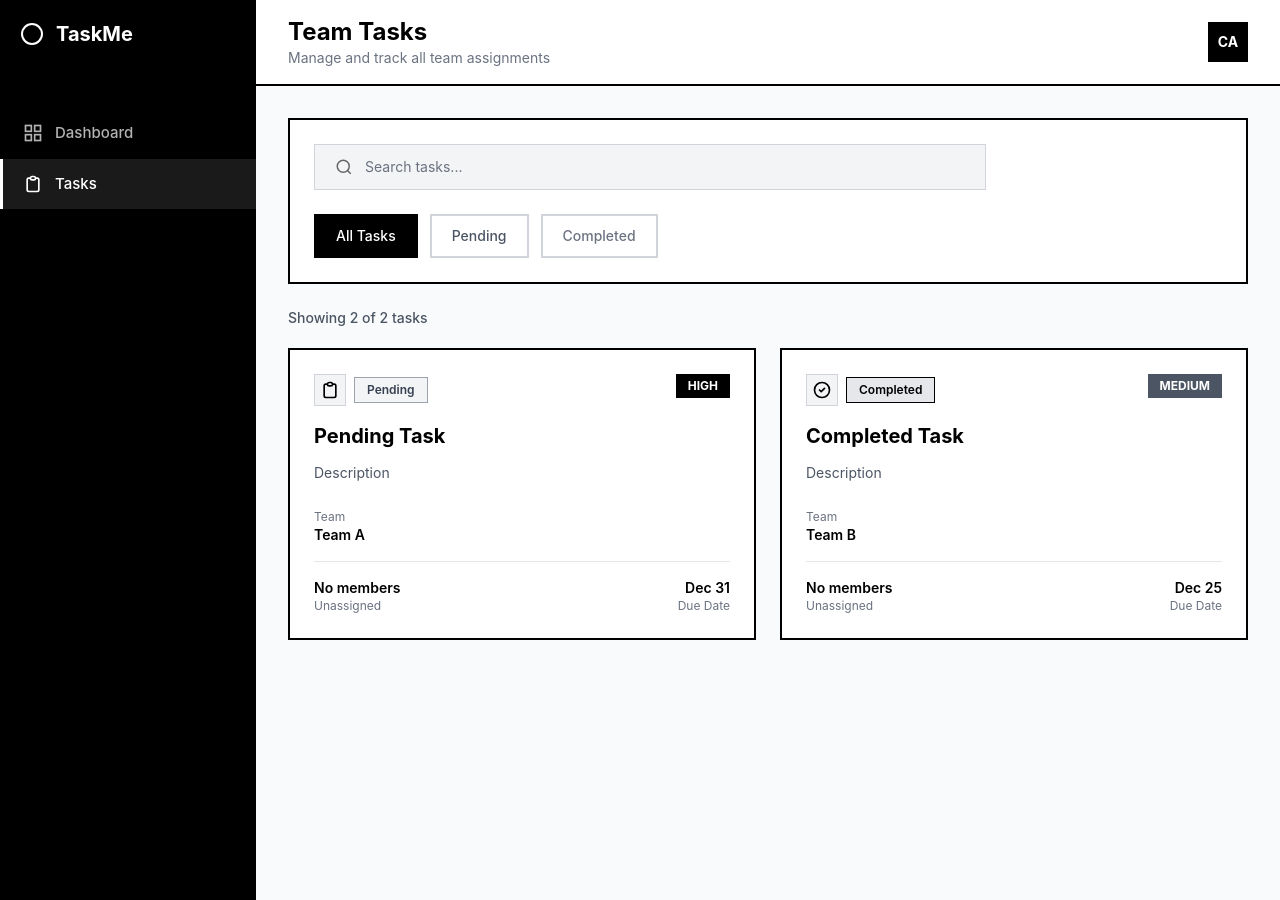
Test: Tasks Component › filters tasks when clicking filter buttons
Check: the heading "Pending Task" is shown, box 314,424 -> 445,448
# Click on Completed filter
Click the button "Completed". click: (599, 236)
box: 540,214 -> 658,258
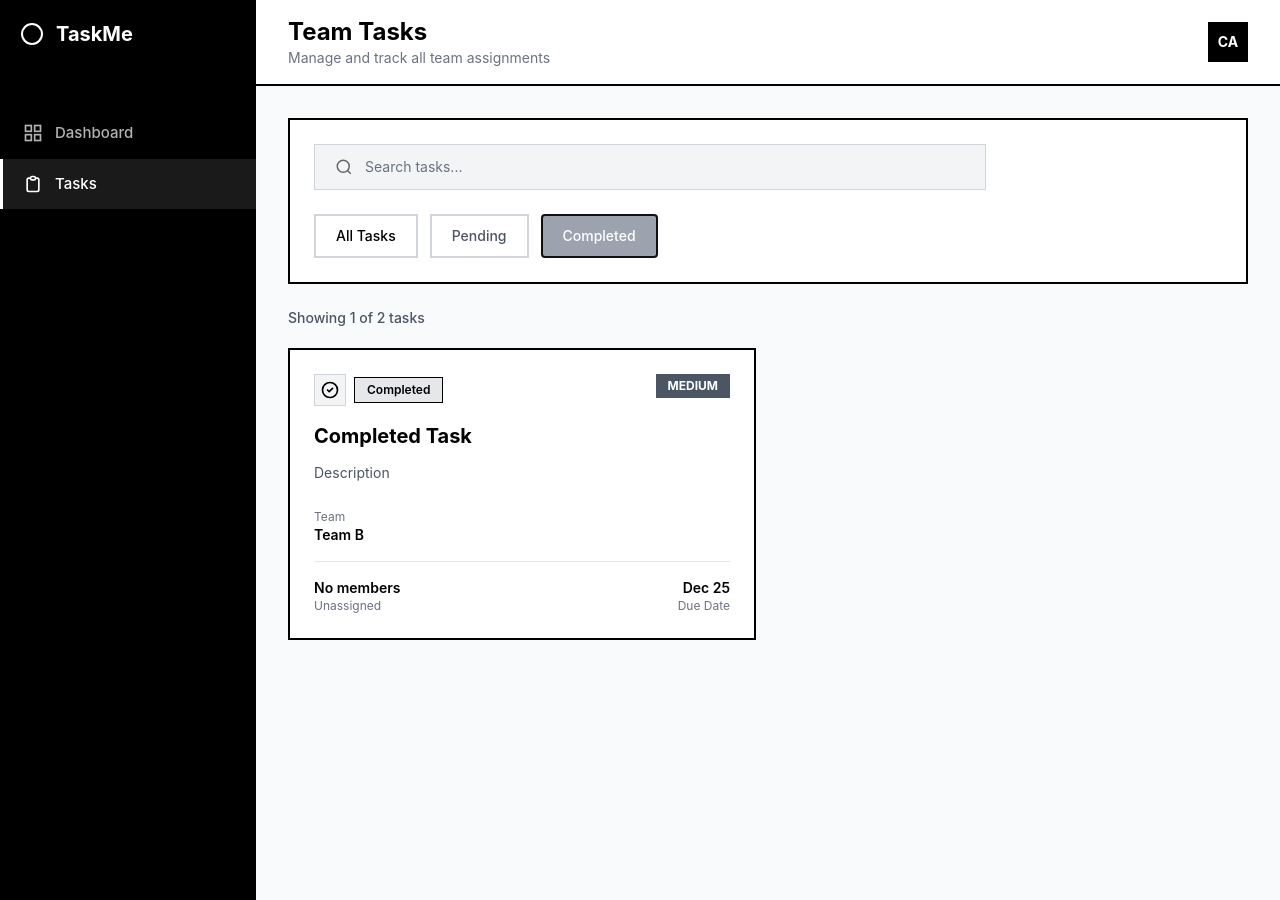
Check: the heading "Completed Task" is shown, box 314,424 -> 472,448
Check: the link "Pending Task" is gone
